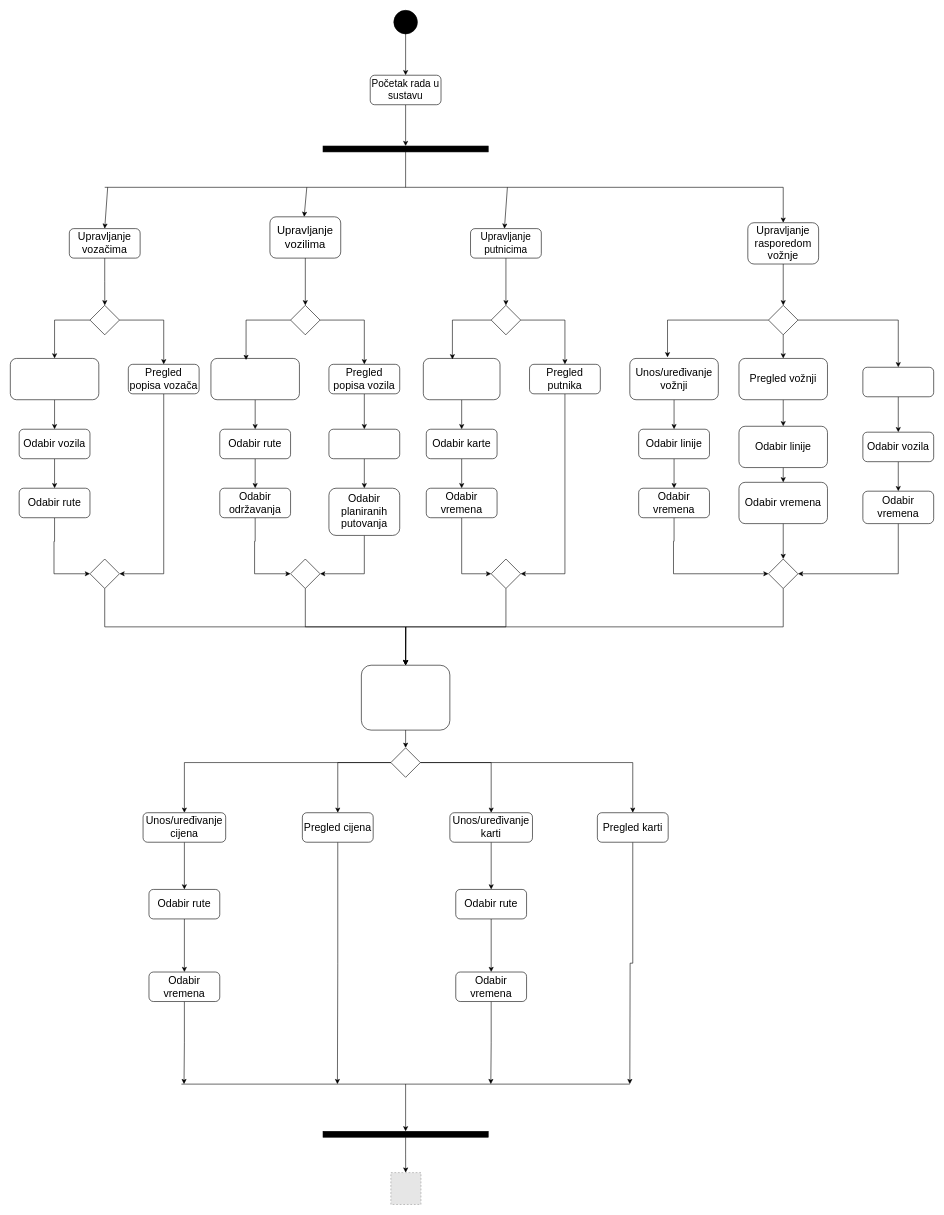
Image size: 944x1215. Some labels were removed from this diagram. Grey dashed boxes stand in for pictures. Here are the shapes that lost their labels. From the top down, the box of each, then its label:
(10, 358, 99, 400): Unos/uređivanje podataka o vozaču
(210, 358, 299, 400): Unos/uređivanje podataka o vozilu
(423, 358, 500, 400): Unos/uređivanje putnika
(862, 367, 934, 397): Odabir vozača
(328, 429, 400, 459): Odabir stanja vozila
(361, 665, 450, 730): Upravljanje cijenama i kartama za prijevoz
